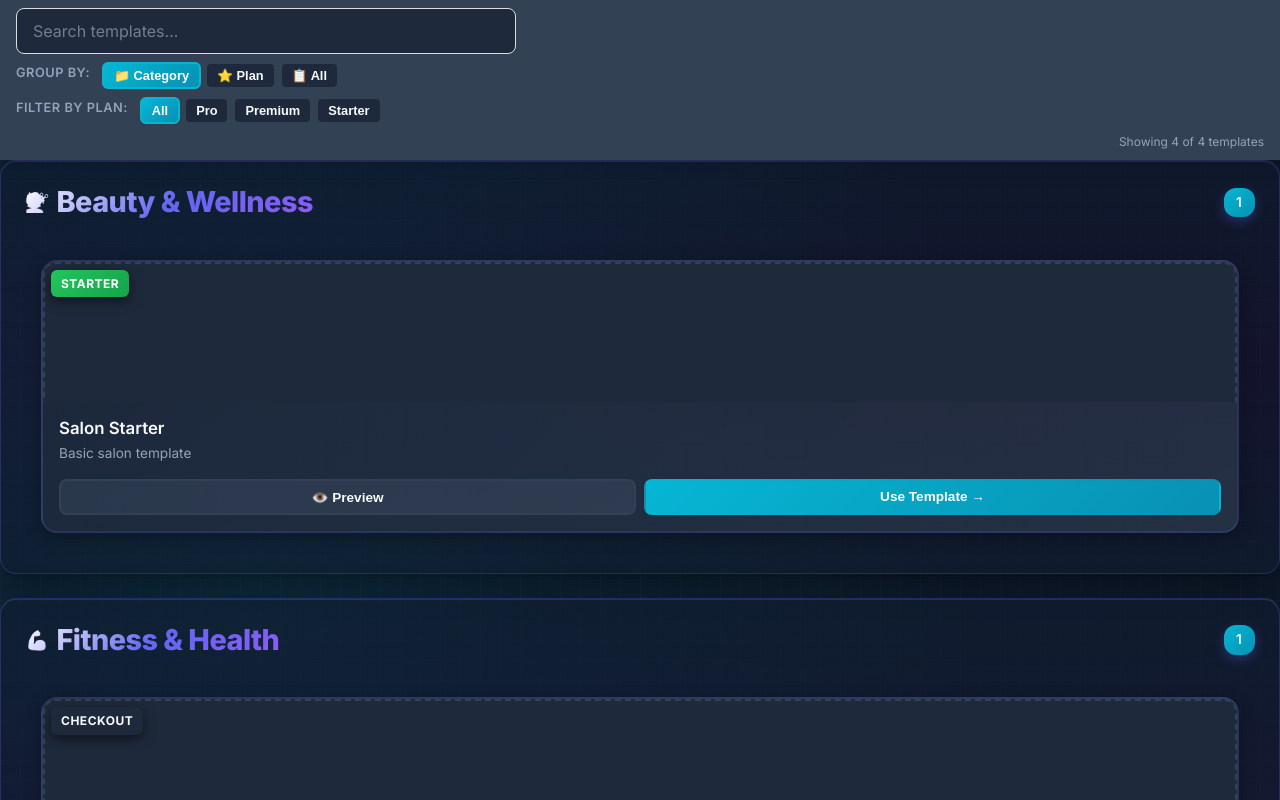
Scenario: TemplateGrid Component › Empty States › should clear all filters from no results state
In the field with placeholder "Search templates...": (266, 31) [16,8,516,54], type "nonexistent"
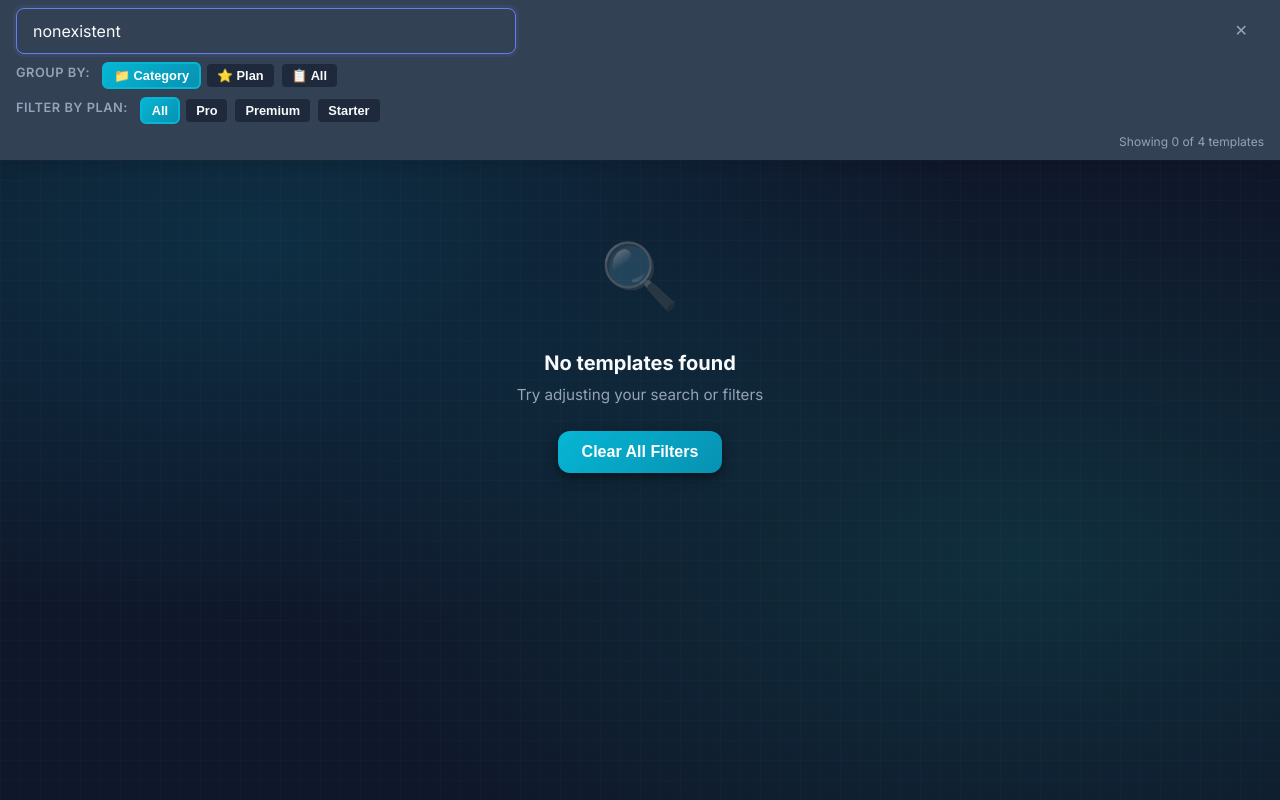
Expected: the heading "No templates found" is shown, [544,351,736,375]
Click the button "Clear All Filters": (640, 452) [558,431,722,473]
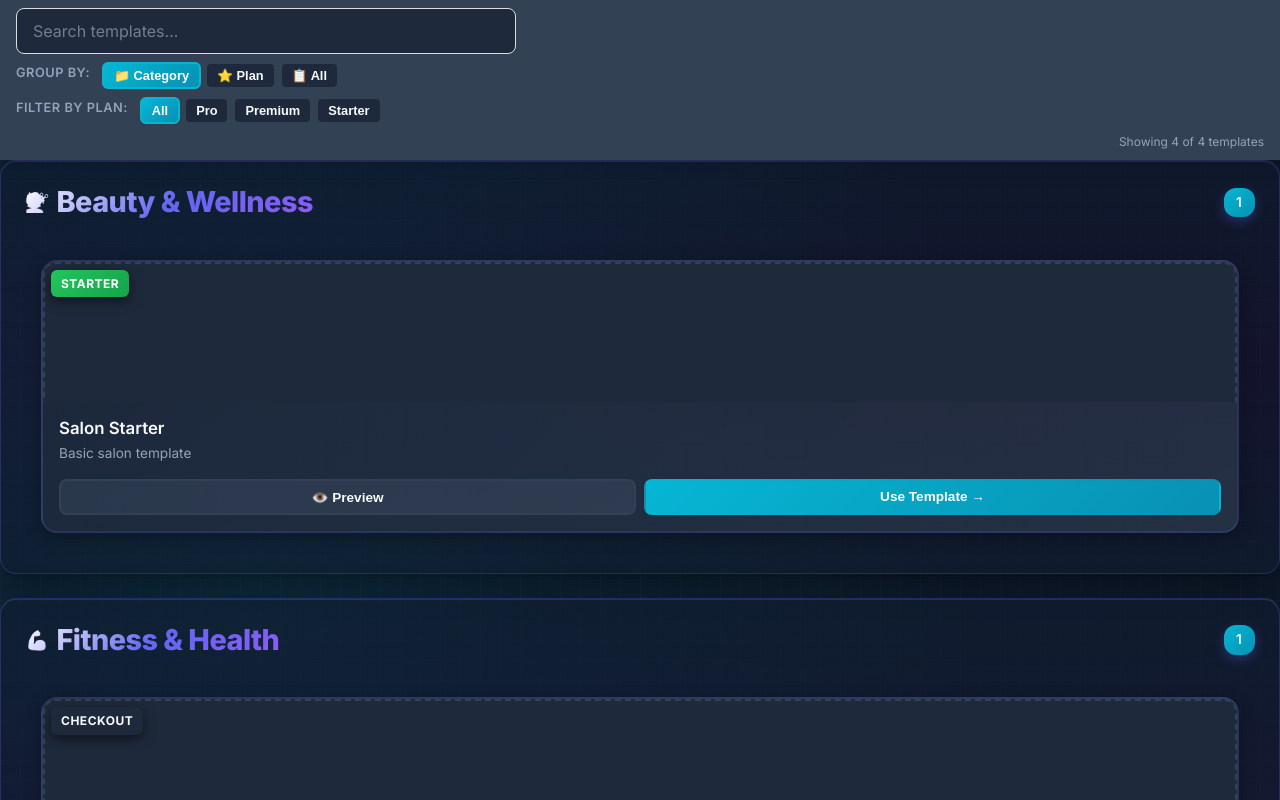
Expected: the text "Showing 4 of 4 templates" is shown, [1119,134,1264,149]
